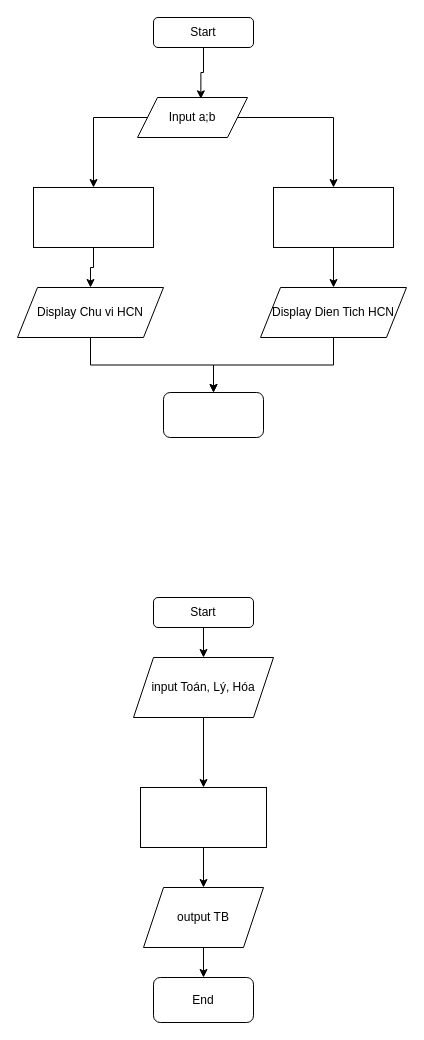
This 424x1040 diagram has some shape labels left out. Here are the shapes that lost their labels. From the top down, the centre of each, then its label:
At (93,217): "C = (a +b)*2".
At (333,217): "S = a*b".
At (213,415): "Stop".
At (203,817): "TB = (Toán+Lý+Hóa)/3".
